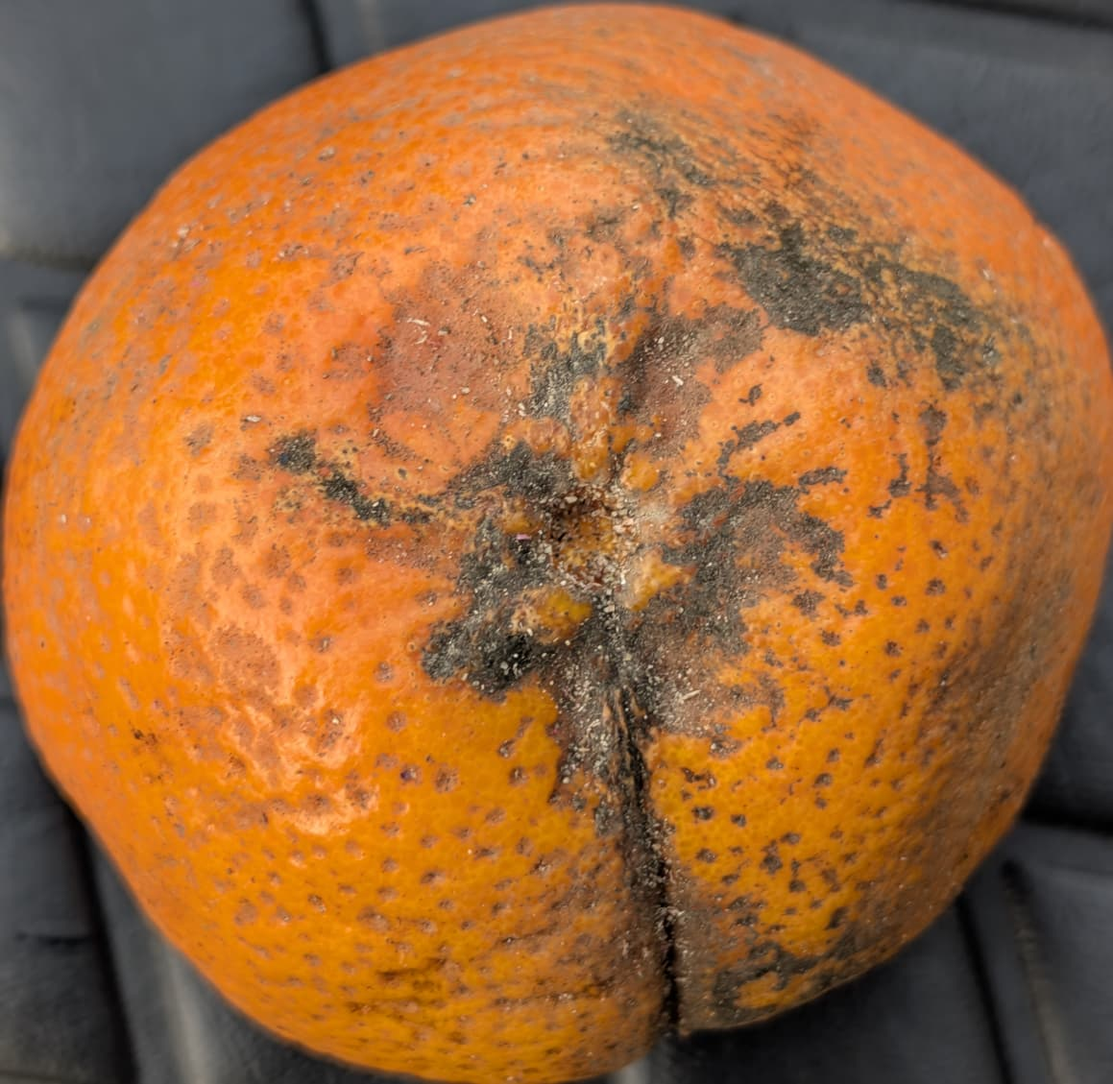orange: (140, 129, 957, 869)
